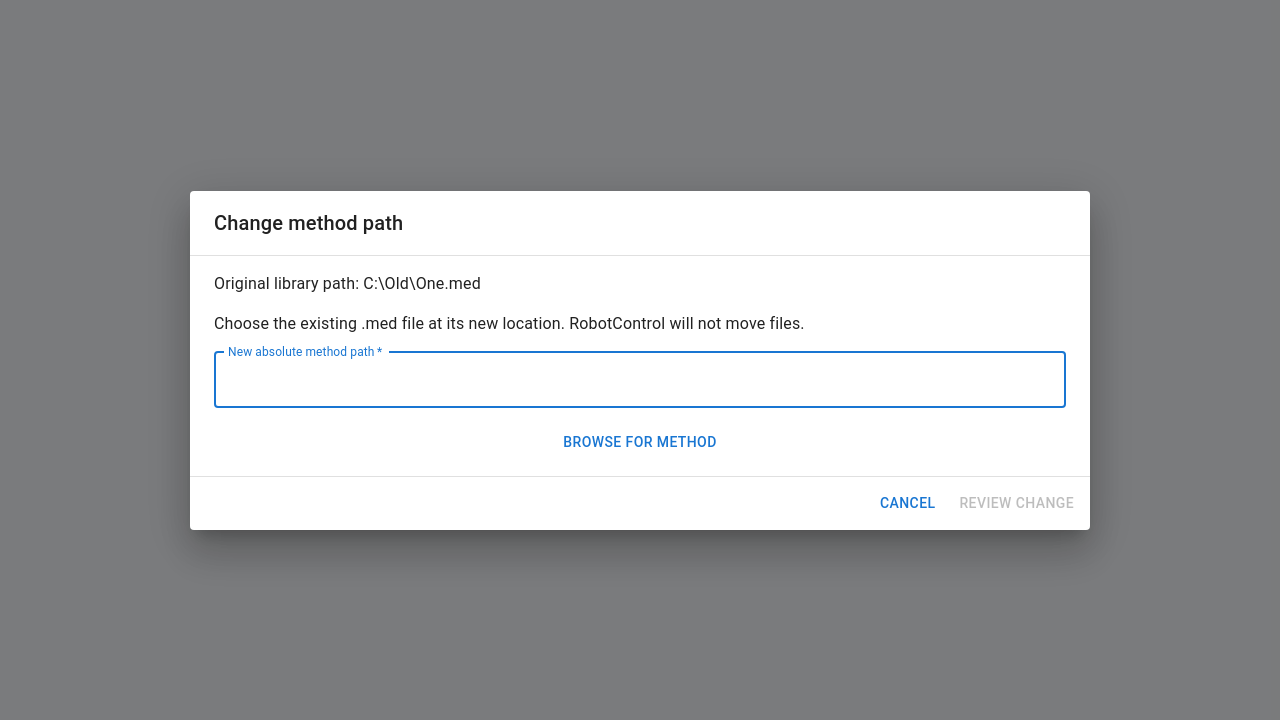
Test: requires explicit reference selection and excludes paused/archived schedules
Type "C:\\New\\One.med" into the field labelled "New absolute method path *" at (640, 380), box x1=214 y1=352 x2=1066 y2=408
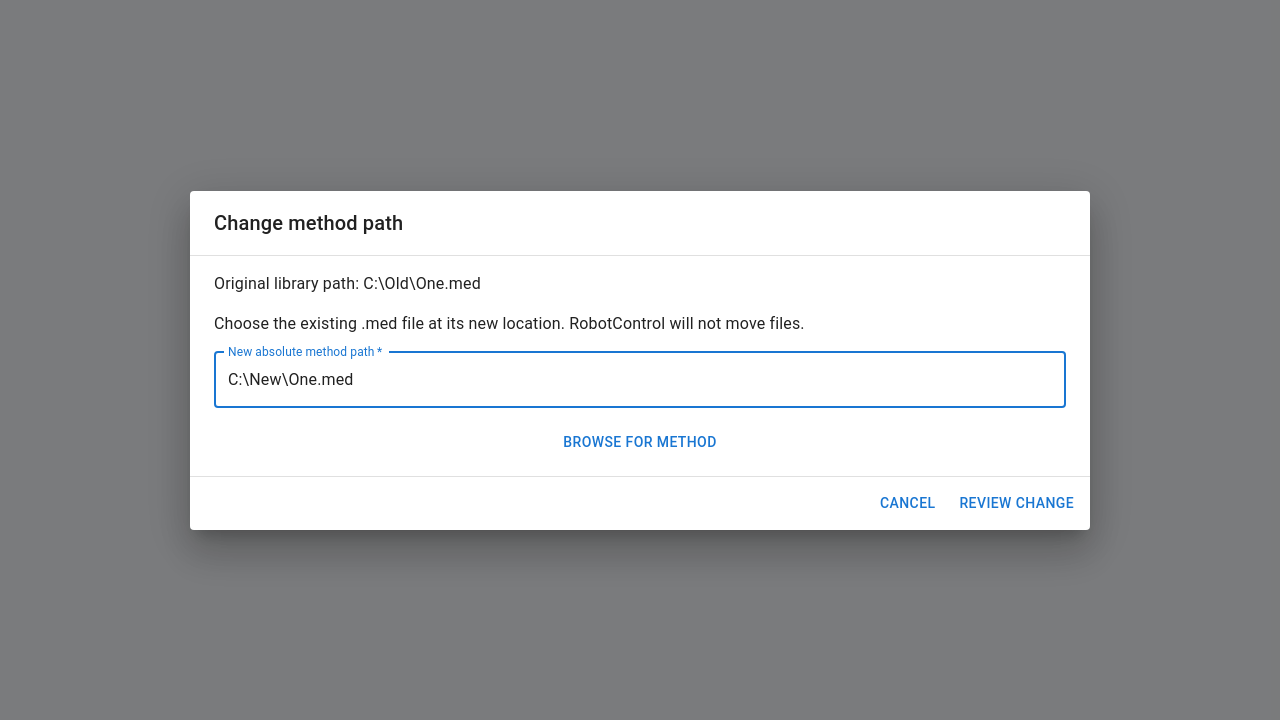
Click the button "Review change" at (1017, 503), box x1=952 y1=485 x2=1082 y2=522
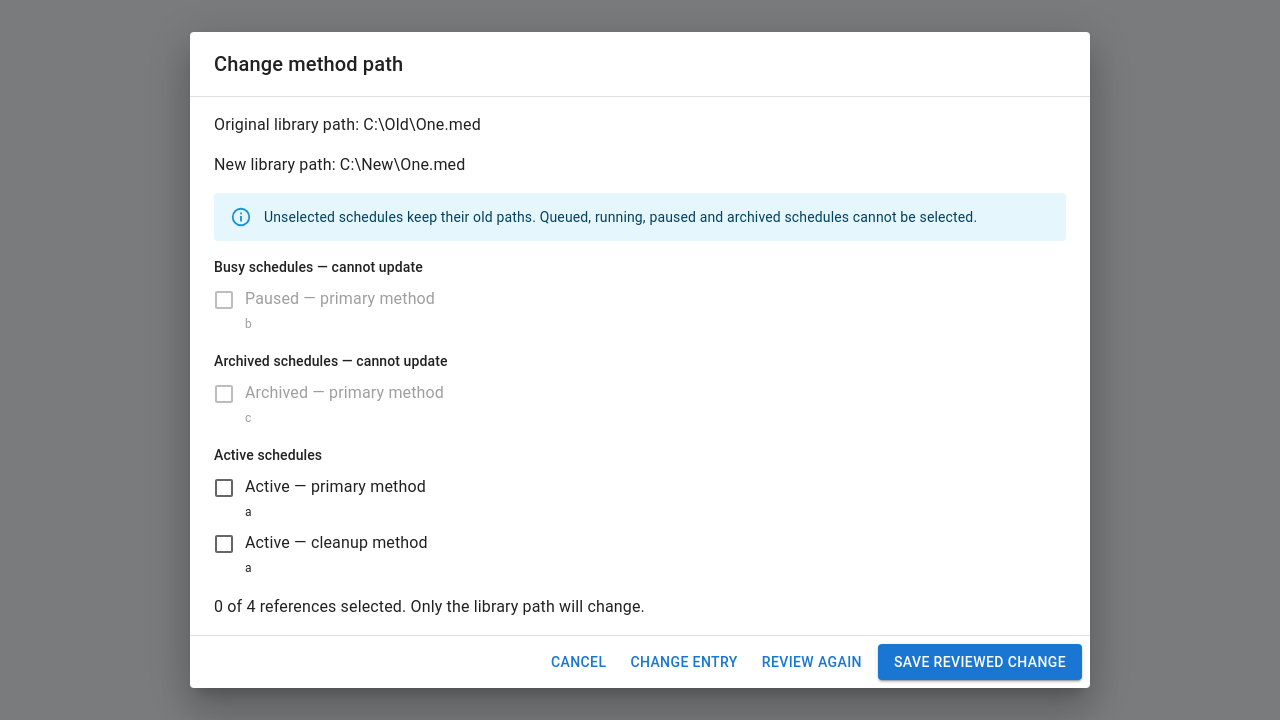
Result: the text "Only the library path will change." is shown at x1=410 y1=597 x2=645 y2=616
Result: the checkbox labelled "Paused — primary method b" is disabled at x1=212 y1=288 x2=435 y2=331
Result: the checkbox labelled "Archived — primary method c" is disabled at x1=212 y1=382 x2=444 y2=425
Click the checkbox labelled "Active — cleanup method a" at (320, 553), box x1=212 y1=532 x2=428 y2=575
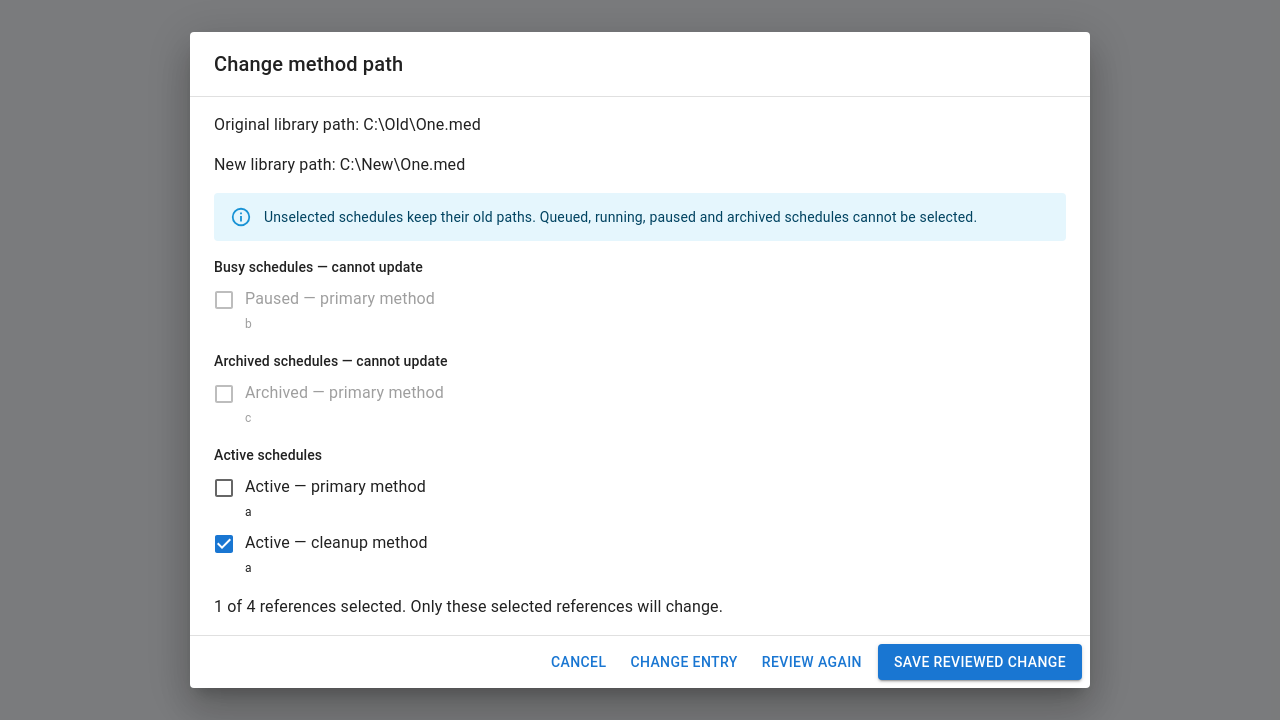
Click the button "Save reviewed change" at (980, 662), box x1=878 y1=644 x2=1082 y2=680
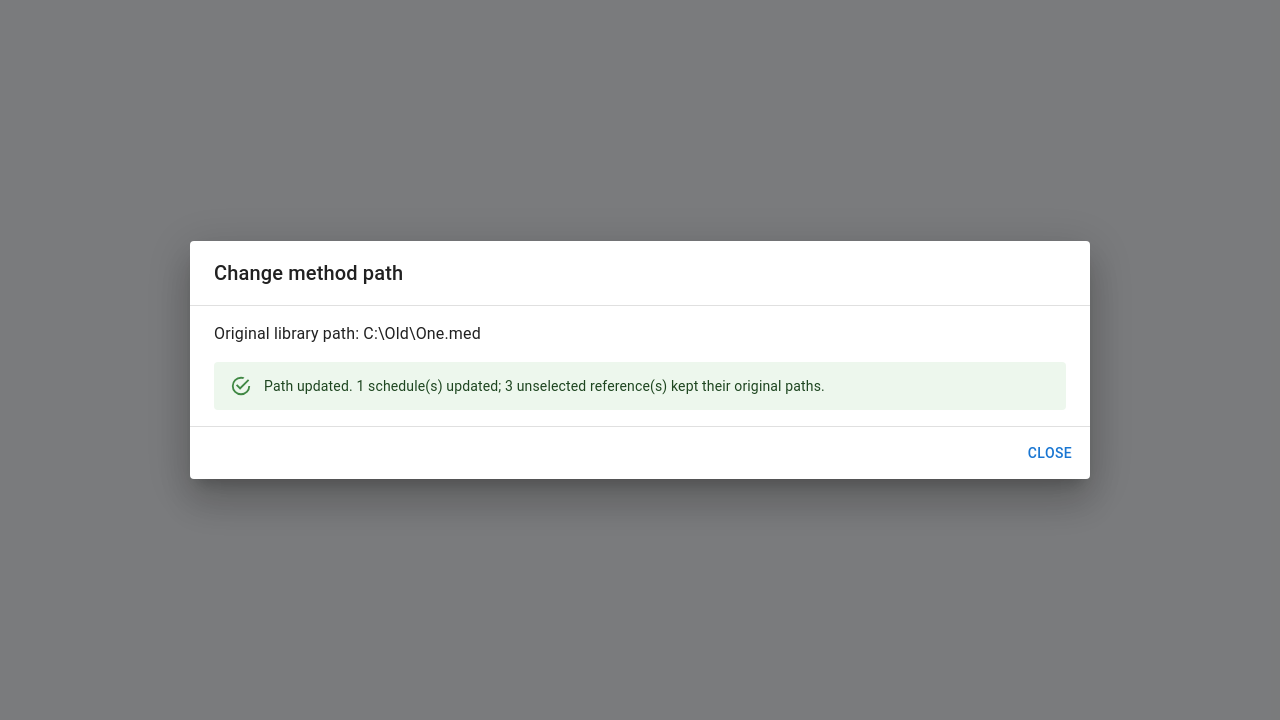
Result: the text "3 unselected reference(s) kept their original paths" is shown at x1=264 y1=378 x2=825 y2=394
